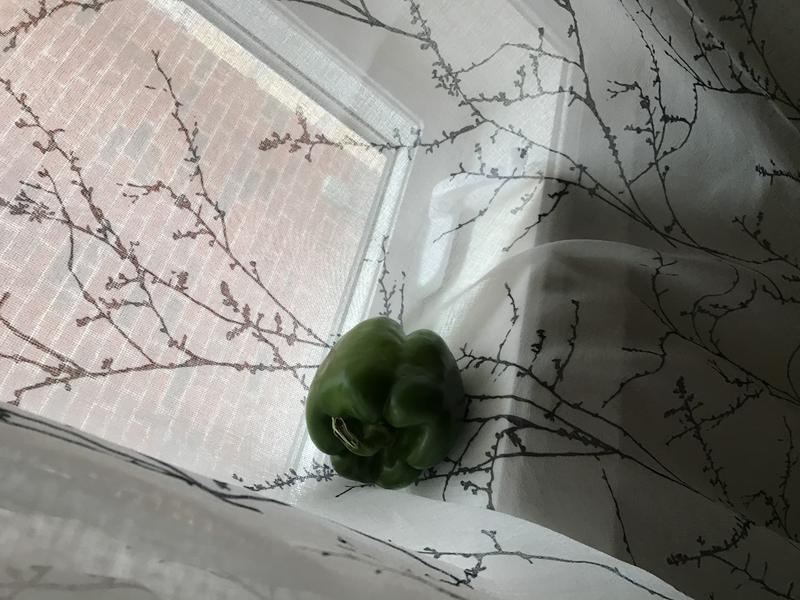green_pepper: (303, 308, 471, 498)
